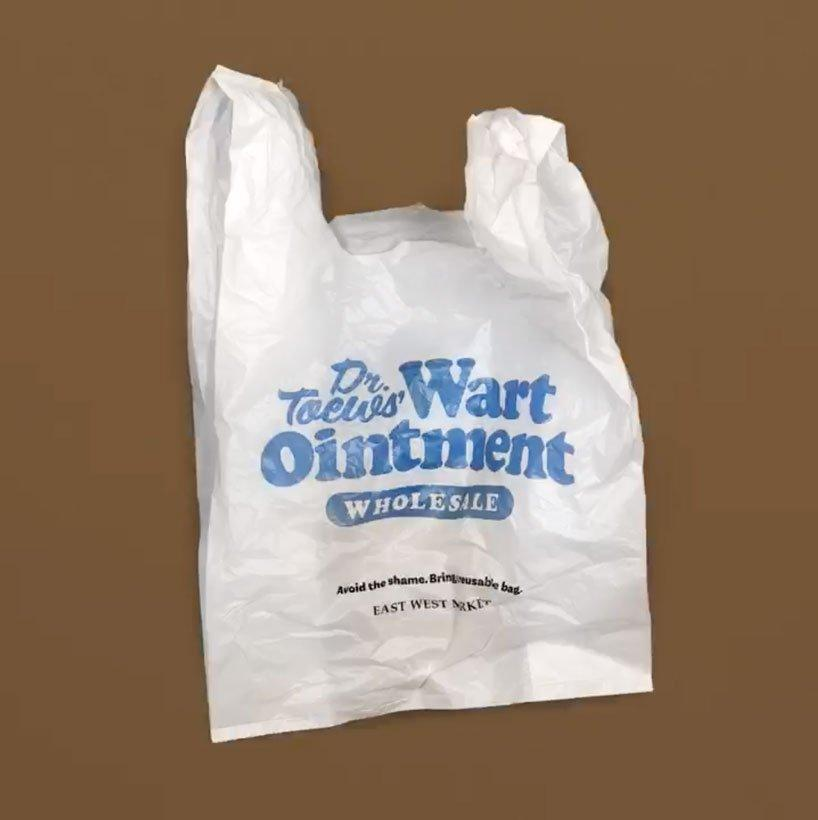LDPE: (187, 64, 653, 744)
